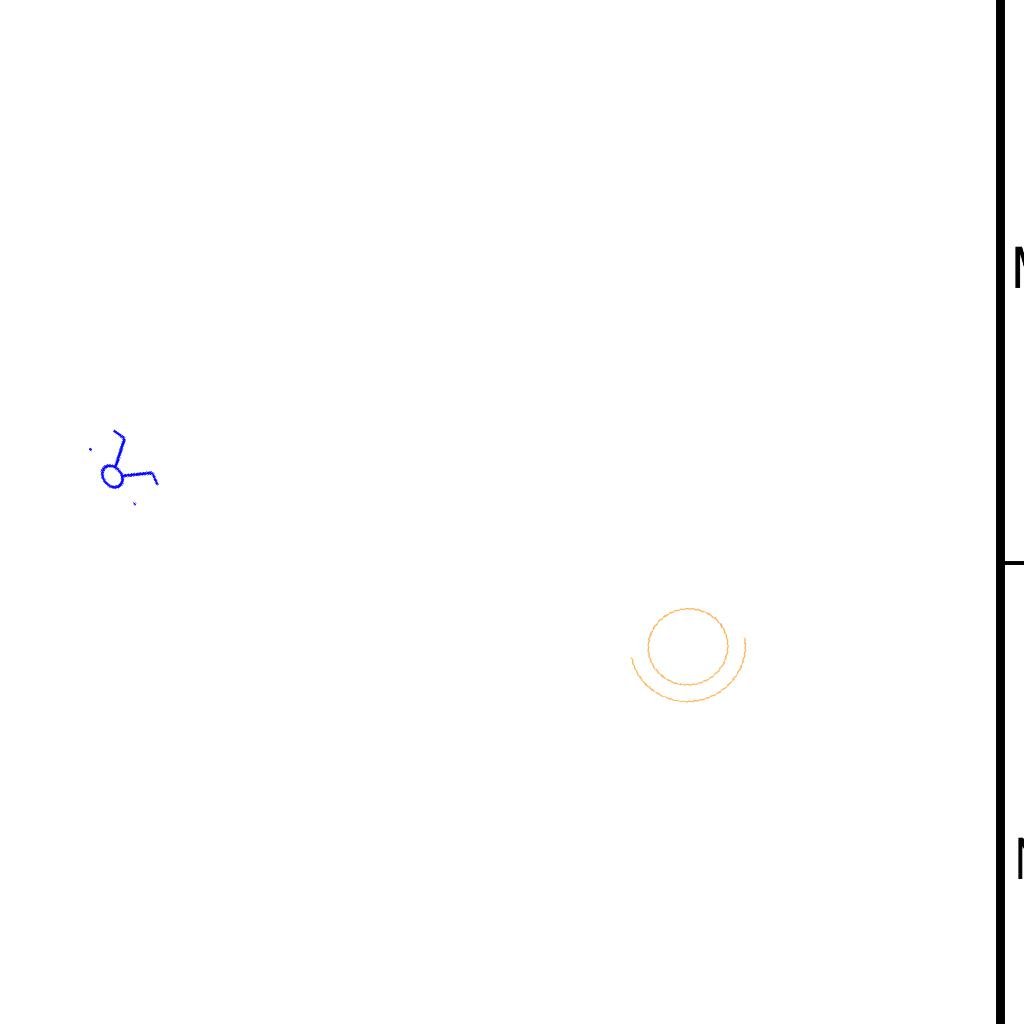Scheinwerfer_fuer_Alarmbeleuchtung: (617, 584, 767, 718)
Serienschalter: (76, 420, 168, 516)
